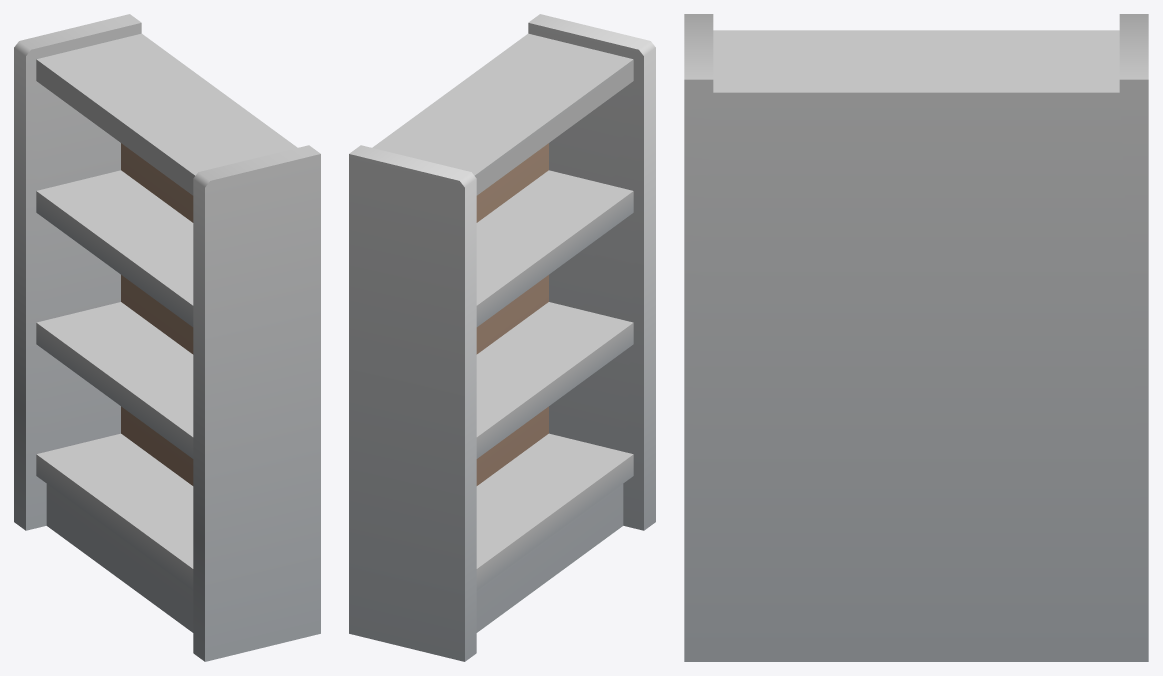
File: cabinet-bookcase-low.glb
3 views of the same model, side by side, from view 1: azimuth 30°, elevation 25°; view 2: azimuth 150°, elevation 25°; view 3: azimuth 270°, elevation 25° (orthographic). The views are drawn at different scales.
Visible parts, largest first — view 1: cabinet-bookcase-low; view 2: cabinet-bookcase-low; view 3: cabinet-bookcase-low.
Part boxes in pixels (x1,y1,x2,y2): cabinet-bookcase-low: (14,14,320,661); cabinet-bookcase-low: (349,14,655,661); cabinet-bookcase-low: (684,14,1148,661).
Size of the model in its own units: 0.28 by 1.11 by 0.8.
